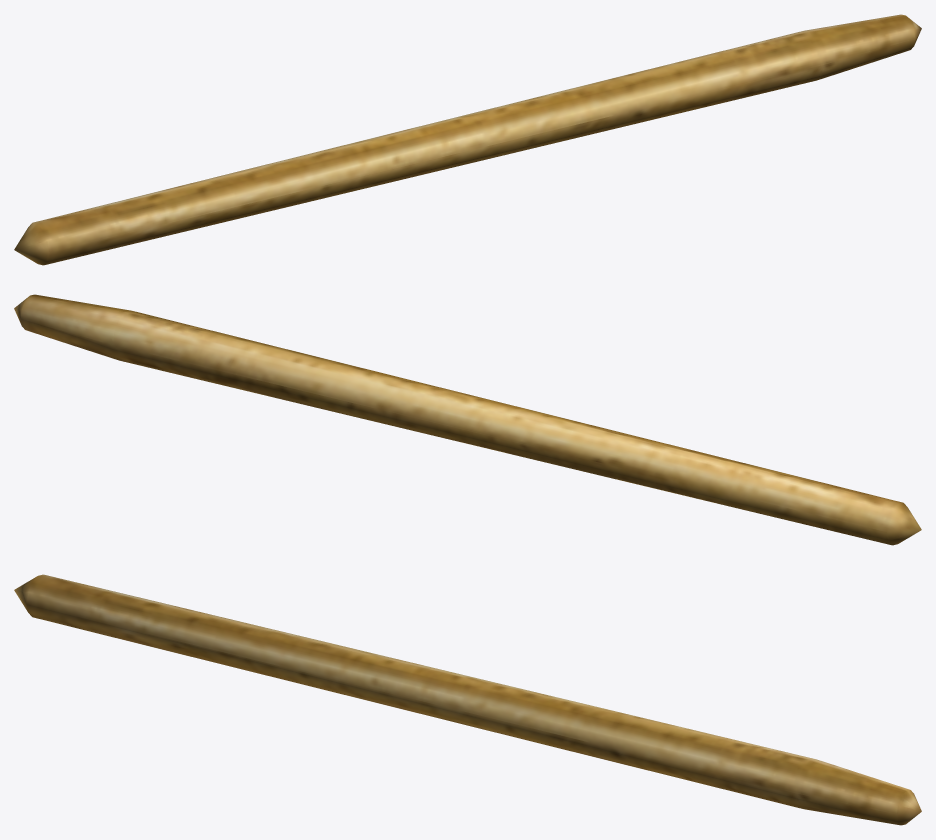
Rendered from item_mm9_10368.glb.
3 views of the same model, one above another, from view 1: azimuth 30°, elevation 25°; view 2: azimuth 150°, elevation 25°; view 3: azimuth 330°, elevation 25° (orthographic).
Visible parts, largest first — view 1: d10368; view 2: d10368; view 3: d10368.
Boxes of the visible parts, <box> form: d10368: <box>14,14,921,265</box>; d10368: <box>14,294,921,545</box>; d10368: <box>14,574,921,825</box>.
Bounding box in the file's own units: 57.6 × 2.83 × 2.83.
Materials: 1 (1 with a texture image).
